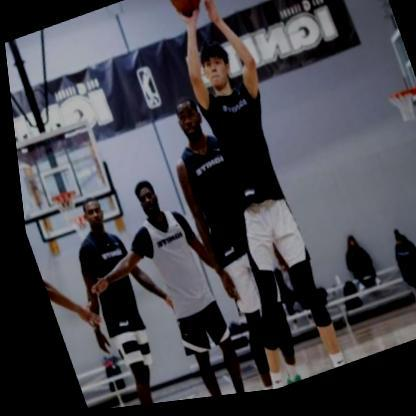basketball: (165, 0, 205, 22)
